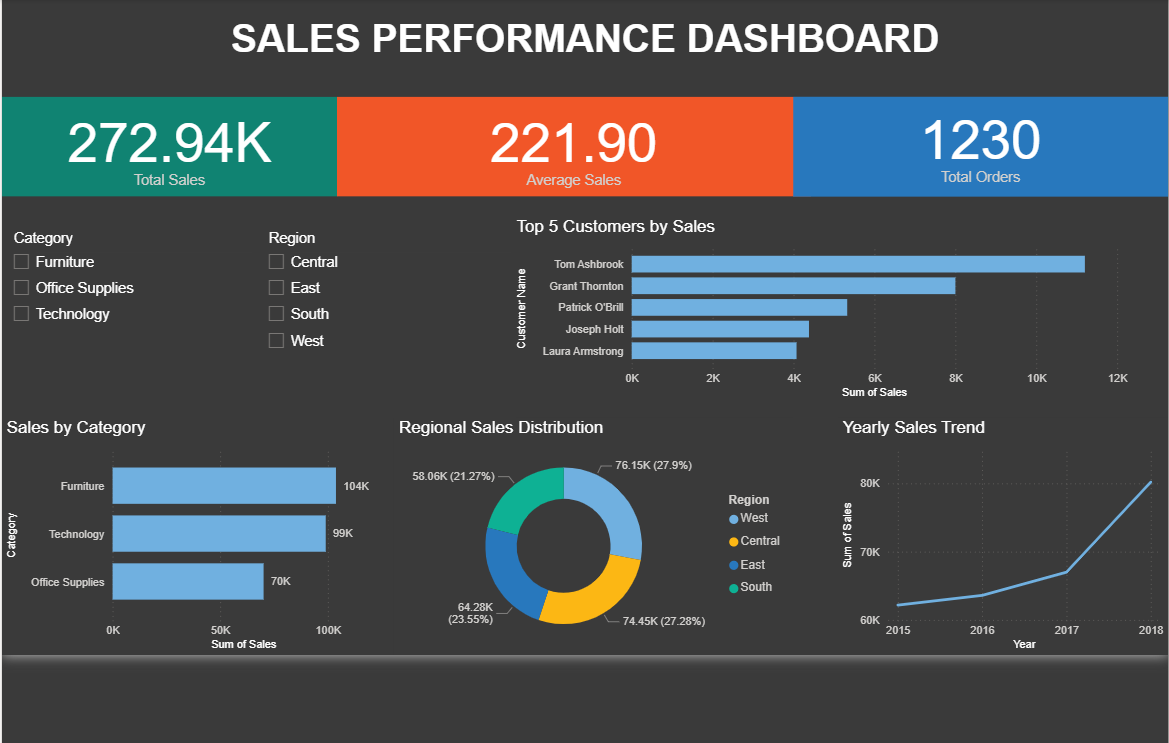

What the dashboard file says about the page in this screenshot:
{"tool":"powerbi","page":{"name":"Page 1","canvas":[1280,720],"ordinal":0},"visuals":[{"type":"clusteredBarChart","title":"Sales by Category","fields":{"Category":["train.Category"],"Y":["Sum(train.Sales)"]},"box":[0,459.7,429.5,260.7],"z":0},{"type":"donutChart","title":"Regional Sales Distribution","fields":{"Category":["train.Region"],"Y":["Sum(train.Sales)"]},"box":[430.9,459.7,437.7,260.7],"z":1000},{"type":"lineChart","title":"Yearly Sales Trend","fields":{"Category":["train.Order Date.Variation.Date Hierarchy.Year","train.Order Date.Variation.Date Hierarchy.Quarter","train.Order Date.Variation.Date Hierarchy.Month","train.Order Date.Variation.Date Hierarchy.Day"],"Y":["Sum(train.Sales)"]},"box":[918,459.7,362.3,260.7],"z":2000},{"type":"slicer","fields":{"Values":["train.Region"]},"box":[279.9,248.4,284,211.3],"z":3000},{"type":"slicer","fields":{"Values":["train.Category"]},"box":[0,248.4,279.9,211.3],"z":4000},{"type":"card","fields":{"Values":["train.Total Sales"]},"box":[0,107,367.8,109.8],"z":5000},{"type":"card","fields":{"Values":["train.Average Sales"]},"box":[367.8,107,520.1,109.8],"z":6000},{"type":"card","fields":{"Values":["train.Total Orders"]},"box":[868.6,100.2,411.7,116.6],"z":7000},{"type":"barChart","title":"Top 5 Customers by Sales","fields":{"Category":["train.Customer Name"],"Y":["Sum(train.Sales)"]},"box":[559.9,238.8,680.6,204.5],"z":8000},{"type":"textbox","box":[0,13.7,1280.3,93.3],"z":9000}]}

Visuals, with their boxes on the page's 1280x720 design canvas (x1, y1, x2, y2). These are canvas units, not pixel positions in the 1169x743 screenshot, which may show the page scaled, cropped or inside an application window:
"Sales by Category" clusteredBarChart: [left=0, top=460, right=430, bottom=720]
"Regional Sales Distribution" donutChart: [left=431, top=460, right=869, bottom=720]
"Yearly Sales Trend" lineChart: [left=918, top=460, right=1280, bottom=720]
slicer - train.Region: [left=280, top=248, right=564, bottom=460]
slicer - train.Category: [left=0, top=248, right=280, bottom=460]
card - train.Total Sales: [left=0, top=107, right=368, bottom=217]
card - train.Average Sales: [left=368, top=107, right=888, bottom=217]
card - train.Total Orders: [left=869, top=100, right=1280, bottom=217]
"Top 5 Customers by Sales" barChart: [left=560, top=239, right=1240, bottom=443]
textbox: [left=0, top=14, right=1280, bottom=107]
